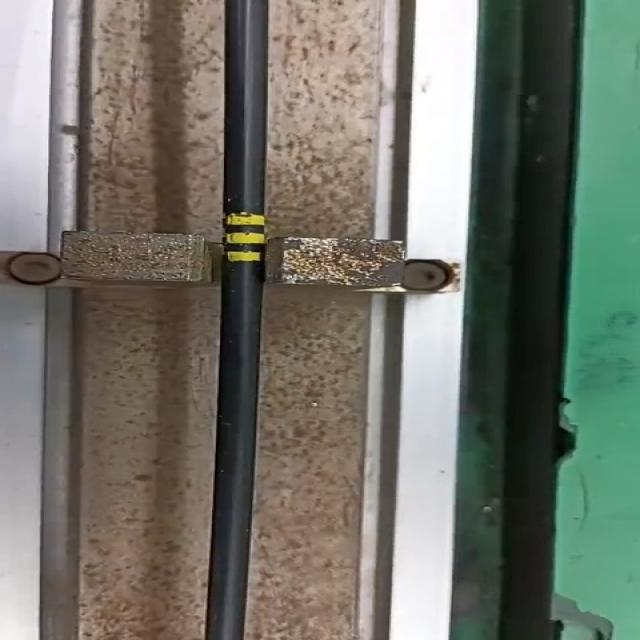yellow: (222, 211, 269, 264)
